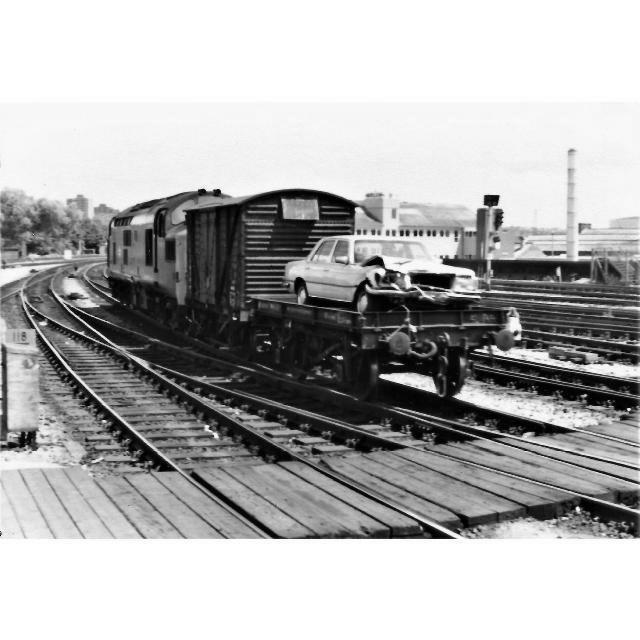bonnet-dent: (363, 249, 466, 275)
front-bumper-dent: (378, 269, 472, 309)
